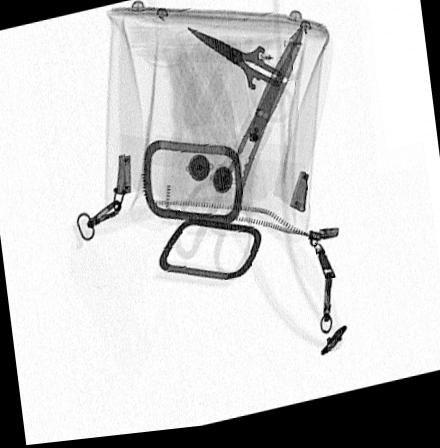Scissors: (185, 28, 308, 133)
